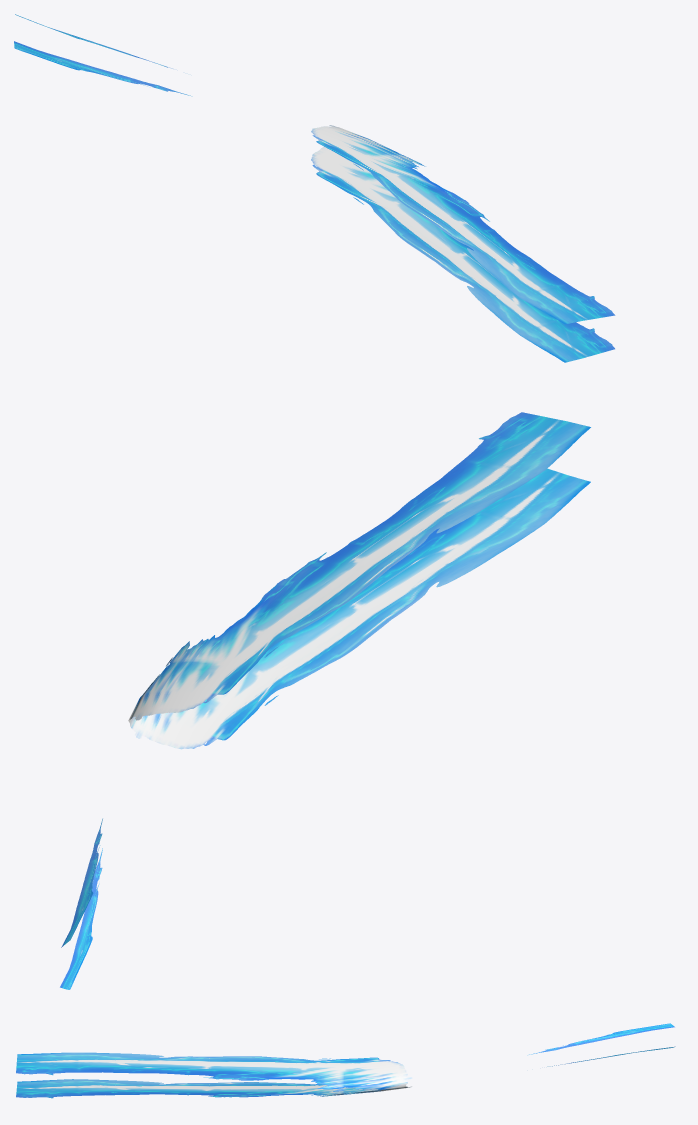
File: liudongdaoguang.FBX
3 views of the same model, one above another, from view 1: azimuth 30°, elevation 25°; view 2: azimuth 150°, elevation 25°; view 3: azimuth 270°, elevation 25° (orthographic). The views are drawn at different scales.
Visible parts, largest first — view 1: Cylinder008; view 2: Cylinder008; view 3: Cylinder008.
Part boxes in pixels (x1,y1,x2,y2): Cylinder008: (14, 14, 615, 362); Cylinder008: (60, 412, 590, 989); Cylinder008: (16, 1023, 675, 1098).
Size of the model in its own units: 1.67 by 0.3062 by 6.42.
